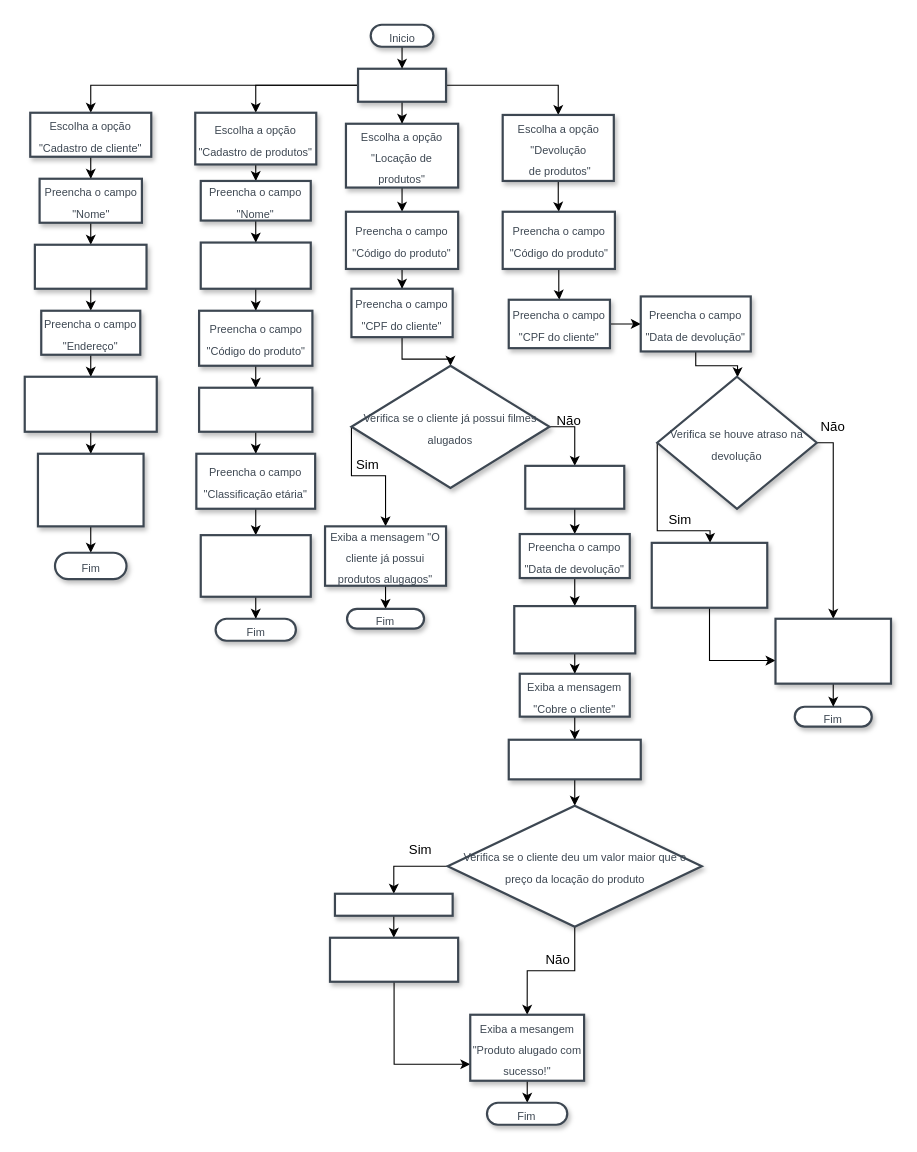
The diagram is 917 pixels wide and 1152 high, and some of its shapes have lost their labels. Here are the shapes that lost their labels. From the top down, the centre of each, then its label:
(402,86): Abra o menu
(91,268): Preencha o campo "CPF"
(256,267): Preencha o campo "Gênero"
(91,405): Preencha o campo "Data de nascimento"
(256,411): Preencha o campo "Autor"
(91,491): Exibe a mensagem "Cliente cadastrado com sucesso"
(575,488): Preencha o campo "Data da locação"
(256,567): Exibe a mensagem "Produto cadastrado com sucesso"
(710,576): Exiba a mensagem "O cliente deverá pagar R$5,00 pelo atraso"
(575,631): Preencha o campo "Valor da Locação"
(833,652): Exiba a mensagem "Devolução feita com sucesso!"
(575,761): Preencha o campo "Valor pago pelo cliente"
(394,906): Calcule o troco
(394,961): Exiba a mesangem "Troco: valor"
